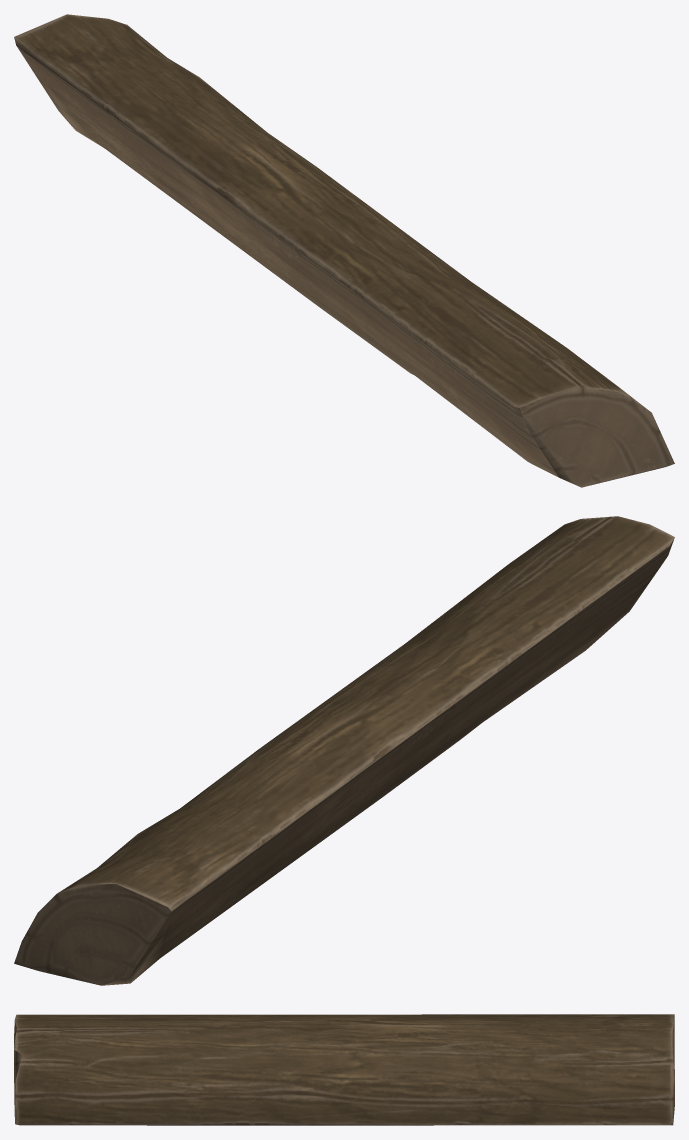
File: SM_Firewood_01.fbx
3 views of the same model, one above another, from view 1: azimuth 30°, elevation 25°; view 2: azimuth 150°, elevation 25°; view 3: azimuth 270°, elevation 25° (orthographic). The views are drawn at different scales.
Parts seen in each view (by area): view 1: Firewood_01; view 2: Firewood_01; view 3: Firewood_01.
Part boxes in pixels (left/top/right/bottom): Firewood_01: left=14, top=14, right=674, bottom=487; Firewood_01: left=14, top=516, right=674, bottom=985; Firewood_01: left=14, top=1014, right=674, bottom=1125.
Size of the model in its own units: 17.28 by 11.48 by 97.04.
Materials: 1 (1 with a texture image).
